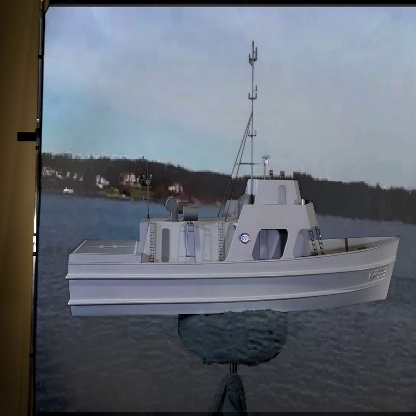YP689: (64, 36, 402, 321)
